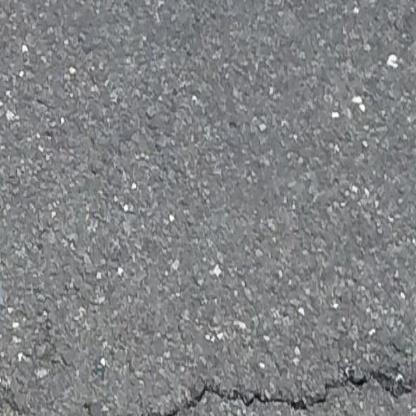Cracks: (152, 370, 416, 416), (71, 401, 144, 416)
